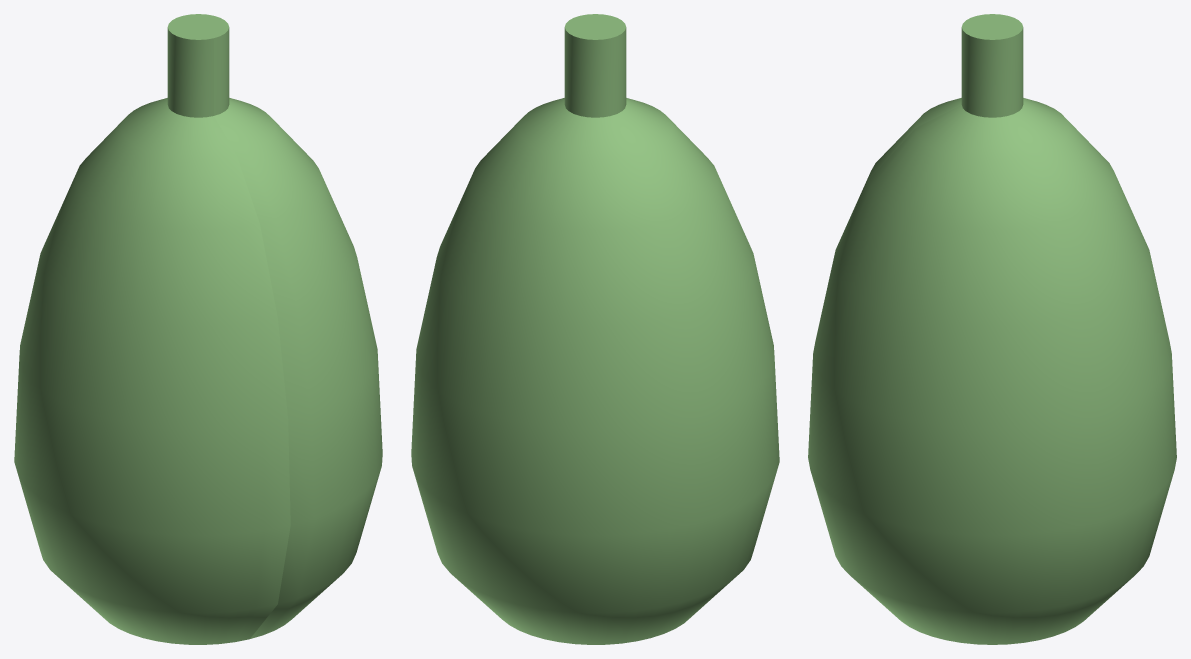
Rendered from gallbladder.glb.
3 views of the same model, side by side, from view 1: azimuth 30°, elevation 25°; view 2: azimuth 150°, elevation 25°; view 3: azimuth 270°, elevation 25° (orthographic).
Bounding box in the file's own units: 2.14 × 3.8 × 2.14.
